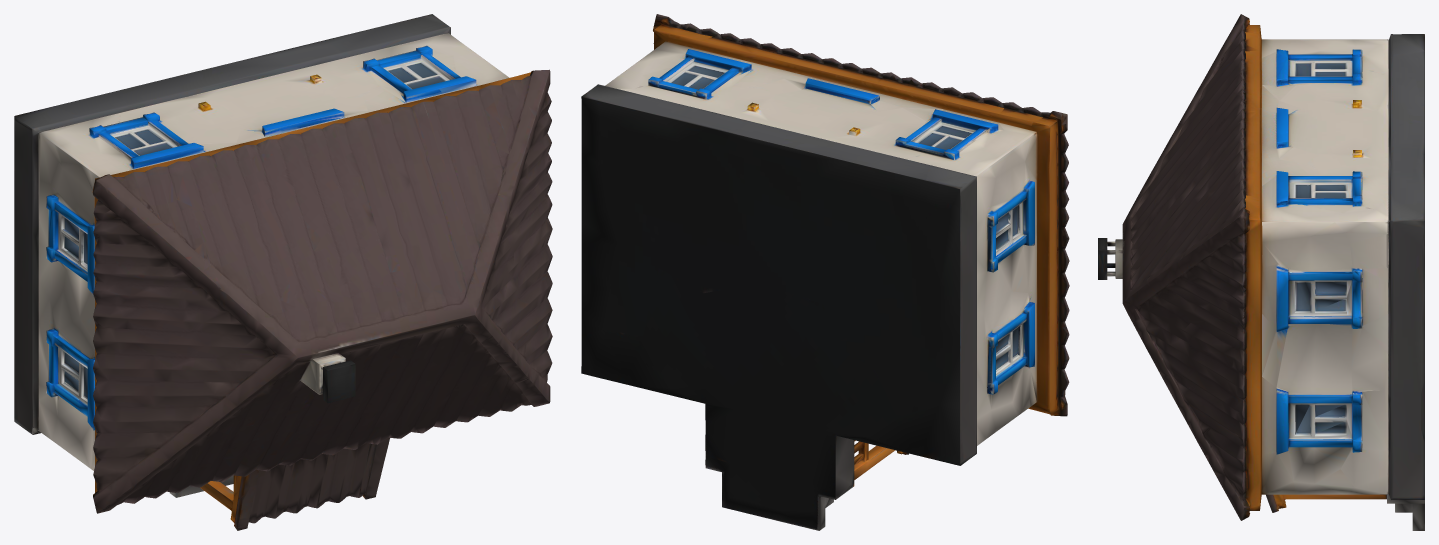
The model's file is dom_odinochny.glb.
The picture shows the model from 3 angles, left to right: view 1: azimuth 30°, elevation 25°; view 2: azimuth 150°, elevation 25°; view 3: azimuth 270°, elevation 25°; orthographic projection. The views are drawn at different scales.
Visible parts, largest first — view 1: dom_odinochny; view 2: dom_odinochny; view 3: dom_odinochny.
Boxes of the visible parts, x1,y1,x2,y2 form: dom_odinochny: (14,14,552,530); dom_odinochny: (581,14,1069,530); dom_odinochny: (1098,14,1424,530).
Bounding box in the file's own units: 8 × 7.15 × 5.39.
Materials: 1 (1 with a texture image).
